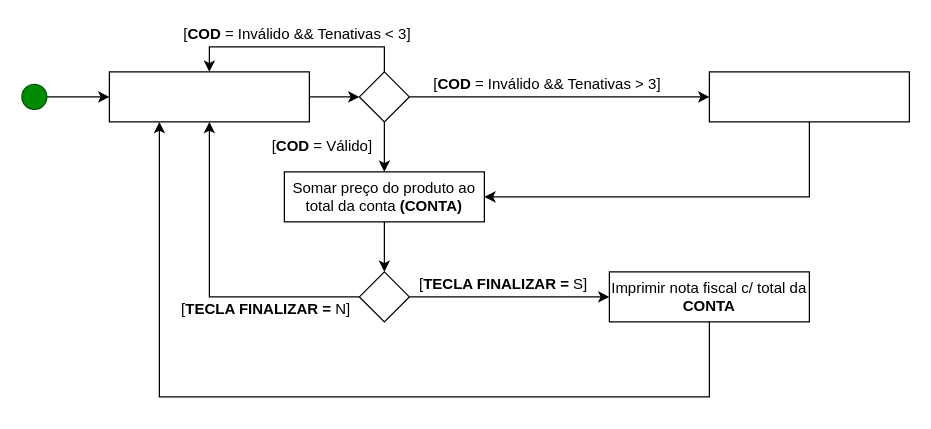
The diagram is 931 pixels wide and 429 high, and some of its shapes have lost their labels. Here are the shapes that lost their labels. From the top down, the box of each, then its label:
(108, 71, 309, 122): Ler Código de Barras c/ Leitor (COD)
(708, 71, 909, 122): Pedir p/ inserir código manualmente (CODM)
